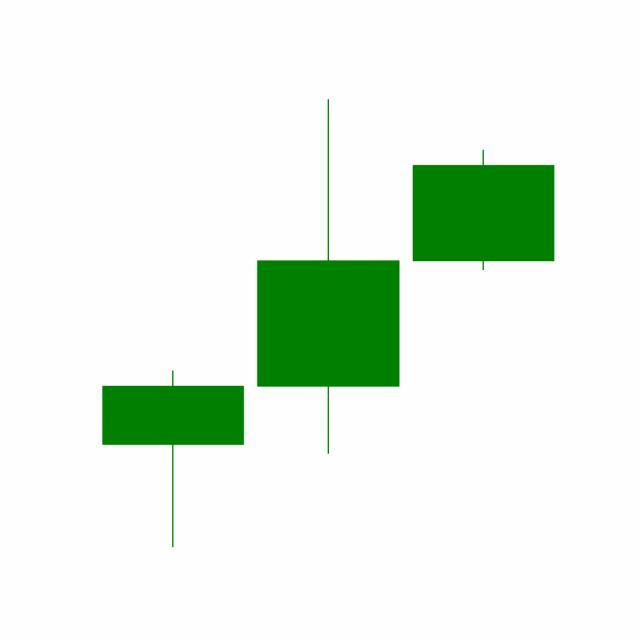Marubozu: (406, 149, 562, 273)
